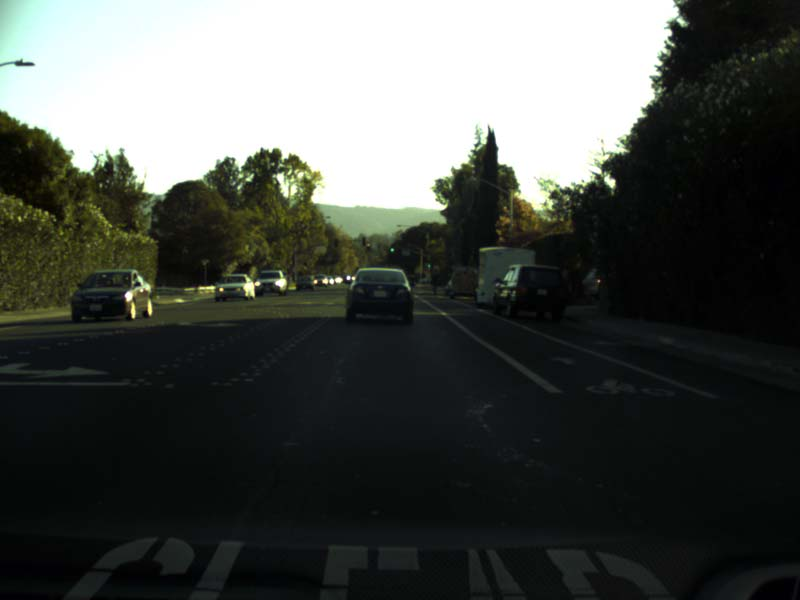Green: (390, 244, 395, 254), (425, 262, 431, 270)
Red: (364, 241, 370, 250)
